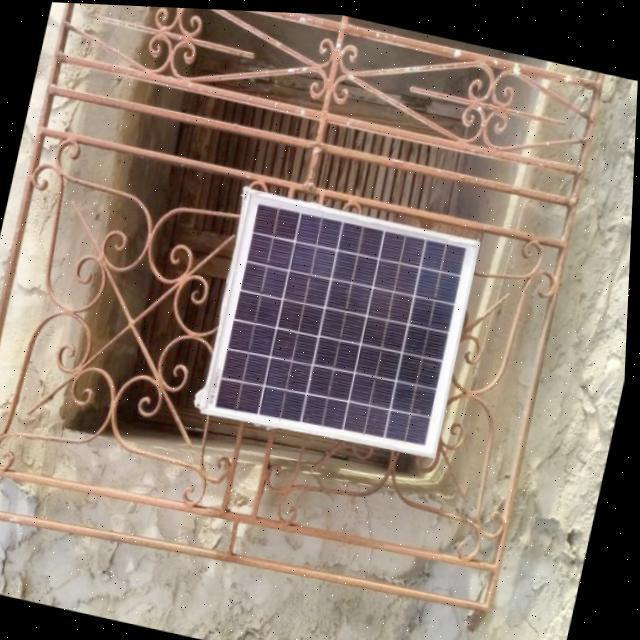Normal Solar Panel: (201, 186, 484, 460)
